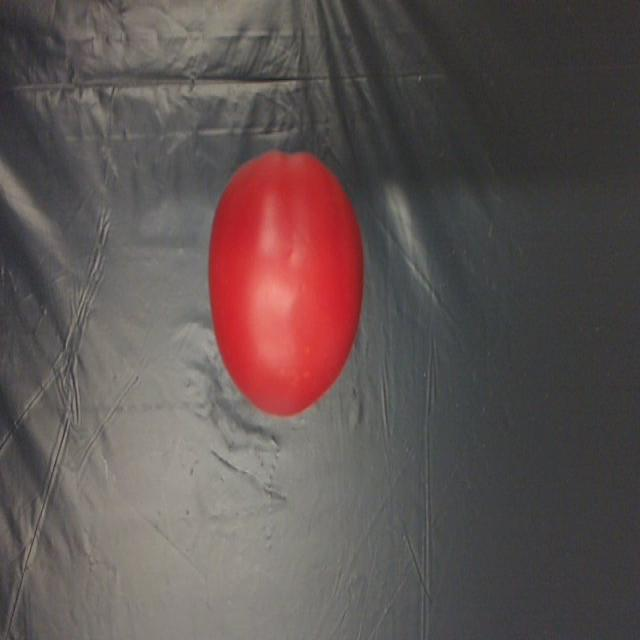kirmizi: (201, 141, 366, 421)
